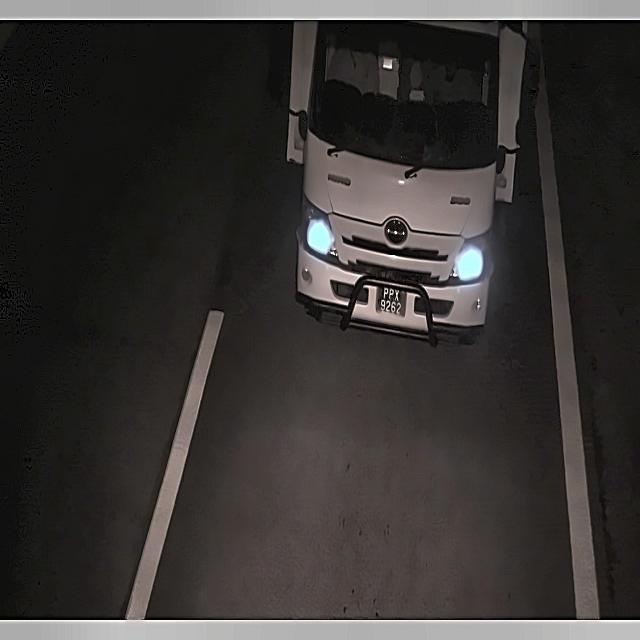car: (374, 280, 407, 324)
